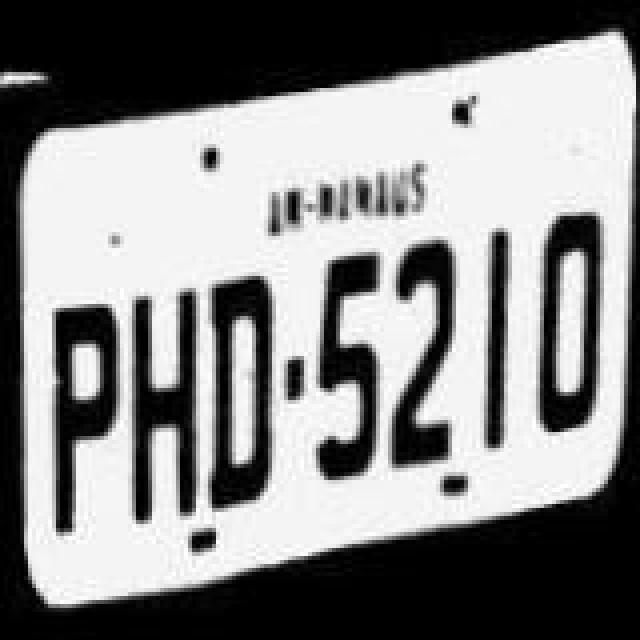1: (476, 204, 520, 448)
2: (382, 238, 462, 470)
5: (308, 252, 384, 476)
D: (204, 268, 284, 508)
H: (124, 282, 204, 526)
O: (534, 214, 606, 430)
P: (42, 290, 126, 550)
